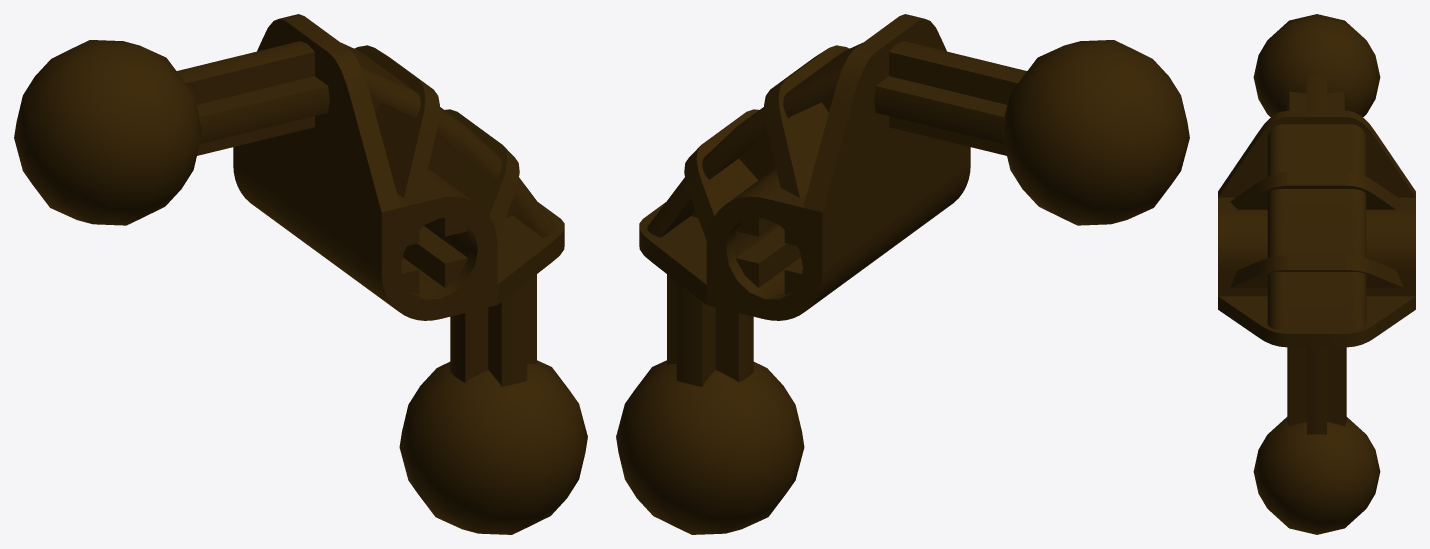
The model's file is bionicle_ball_joint_41760.glb.
The picture shows the model from 3 angles, left to right: view 1: azimuth 30°, elevation 25°; view 2: azimuth 150°, elevation 25°; view 3: azimuth 270°, elevation 25°; orthographic projection. The views are drawn at different scales.
Parts seen in each view (by area): view 1: 00001_41670.dat; view 2: 00001_41670.dat; view 3: 00001_41670.dat.
Part boxes in pixels (x1=…): 00001_41670.dat: x1=14, y1=14, x2=587, y2=534; 00001_41670.dat: x1=616, y1=14, x2=1189, y2=534; 00001_41670.dat: x1=1218, y1=14, x2=1415, y2=534.
Size of the model in its own units: 1.93 by 1.93 by 0.9023.
